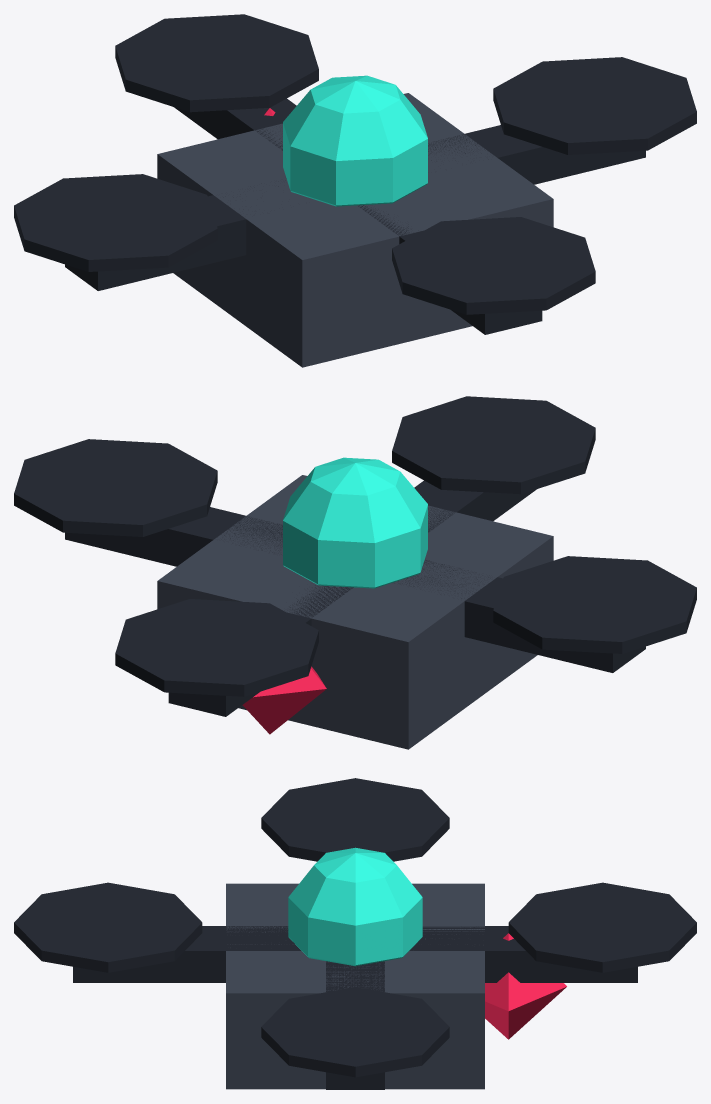
File: drone.obj
3 renders of one model, top to bottom at view 1: azimuth 30°, elevation 25°; view 2: azimuth 150°, elevation 25°; view 3: azimuth 270°, elevation 25°, orthographic. The views are drawn at different scales.
Visible parts, largest first — view 1: drone_hull, drone_rotor_n, drone_rotor_w, drone_rotor_e, drone_rotor_s, drone_canopy, drone_arm_x, drone_arm_z; view 2: drone_hull, drone_rotor_s, drone_rotor_w, drone_rotor_e, drone_rotor_n, drone_canopy, drone_arm_x, drone_arm_z, drone_eye; view 3: drone_hull, drone_canopy, drone_rotor_e, drone_rotor_n, drone_rotor_s, drone_rotor_w, drone_arm_z, drone_eye, drone_arm_x.
Part boxes in pixels (left/top/right/bottom): drone_hull: left=157, top=93, right=553, bottom=367; drone_rotor_n: left=115, top=14, right=318, bottom=112; drone_rotor_w: left=14, top=174, right=217, bottom=271; drone_rotor_e: left=493, top=57, right=696, bottom=154; drone_rotor_s: left=392, top=217, right=595, bottom=314; drone_canopy: left=283, top=75, right=427, bottom=206; drone_arm_x: left=65, top=125, right=645, bottom=290; drone_arm_z: left=174, top=98, right=542, bottom=334; drone_hull: left=157, top=475, right=553, bottom=749; drone_rotor_s: left=392, top=396, right=595, bottom=494; drone_rotor_w: left=493, top=556, right=696, bottom=653; drone_rotor_e: left=14, top=439, right=217, bottom=536; drone_rotor_n: left=115, top=599, right=318, bottom=696; drone_canopy: left=283, top=457, right=427, bottom=588; drone_arm_x: left=65, top=507, right=645, bottom=672; drone_arm_z: left=168, top=480, right=536, bottom=716; drone_eye: left=242, top=666, right=326, bottom=734; drone_hull: left=226, top=883, right=484, bottom=1089; drone_canopy: left=288, top=847, right=422, bottom=966; drone_rotor_e: left=261, top=987, right=449, bottom=1077; drone_rotor_n: left=508, top=882, right=696, bottom=972; drone_rotor_s: left=14, top=882, right=202, bottom=972; drone_rotor_w: left=261, top=778, right=449, bottom=861; drone_arm_z: left=73, top=926, right=637, bottom=982; drone_eye: left=485, top=933, right=566, bottom=1039; drone_arm_x: left=326, top=961, right=384, bottom=1089.
Size of the model in its own units: 1.16 by 0.35 by 1.16.
